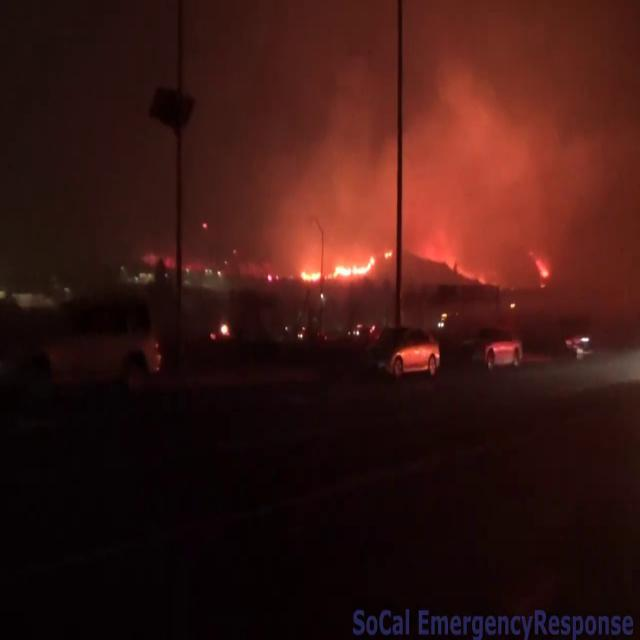Fire: (294, 245, 376, 288)
Smoke: (17, 0, 640, 256)
